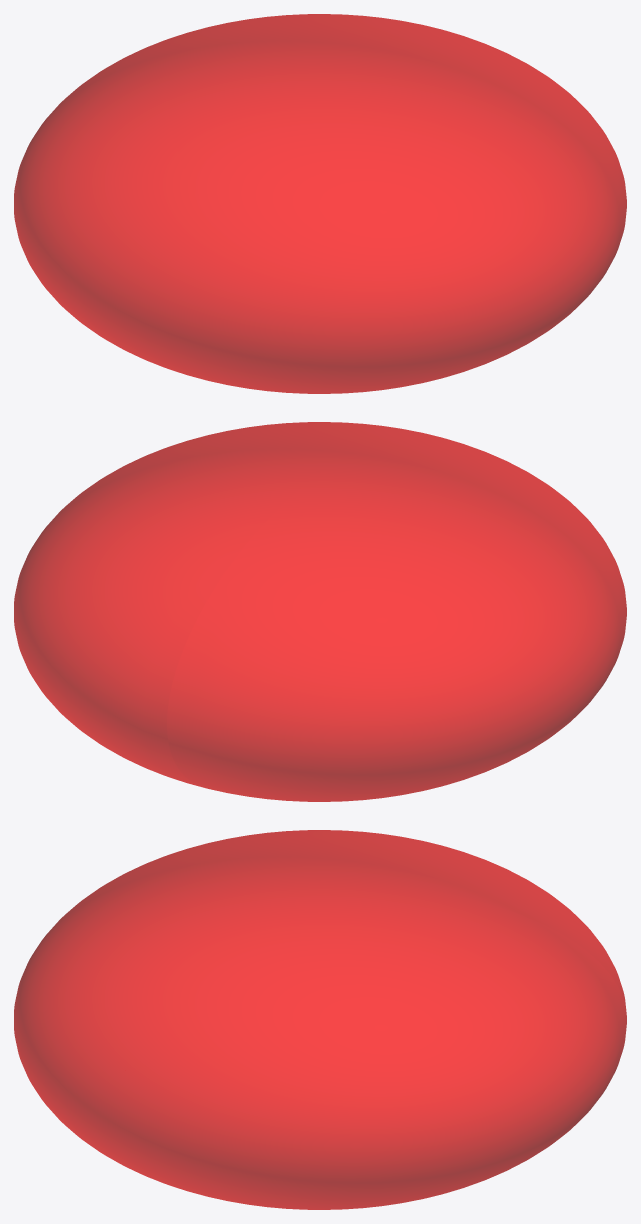
The model's file is elipsoide.glb.
3 renders of one model, top to bottom at view 1: azimuth 30°, elevation 25°; view 2: azimuth 150°, elevation 25°; view 3: azimuth 270°, elevation 25°, orthographic.
Size of the model in its own units: 4 by 2 by 4.
